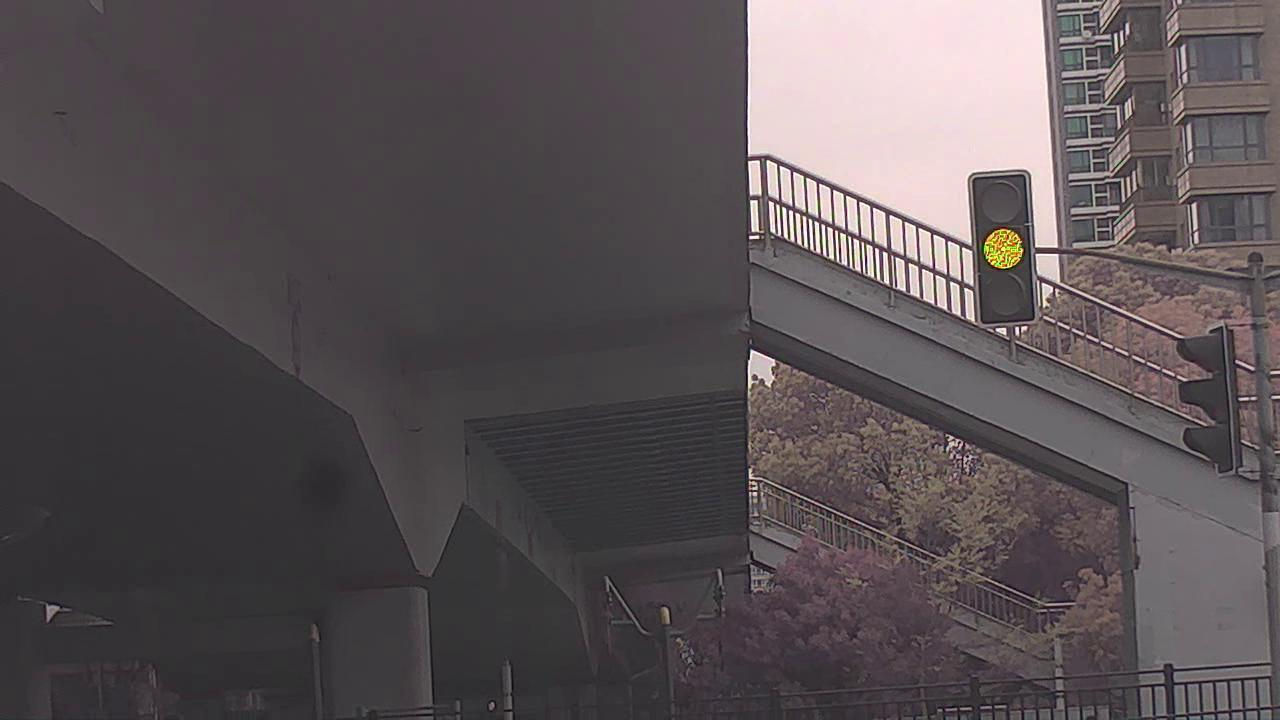traffic_light: (967, 167, 1033, 329)
